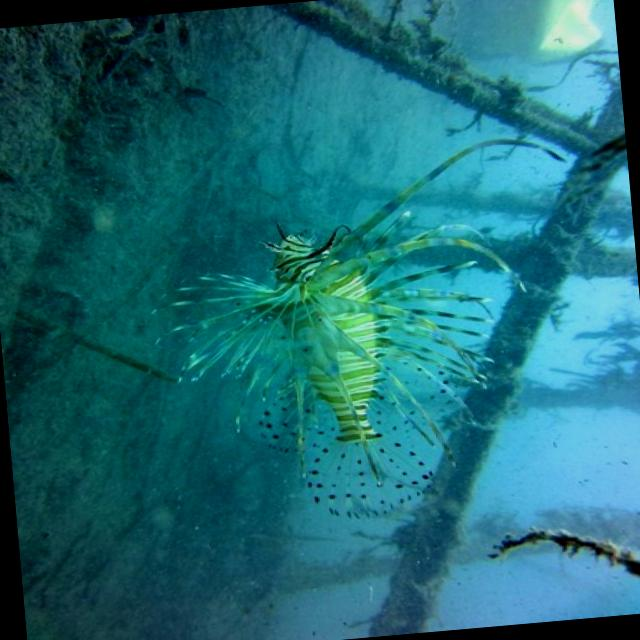Aslan Baligi: (135, 128, 590, 536)
